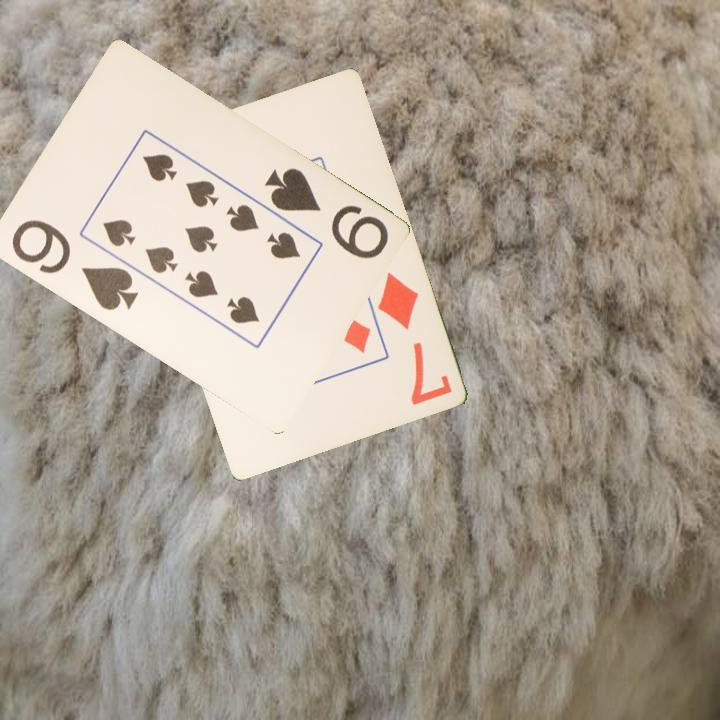7d: (373, 268, 454, 408)
9s: (7, 216, 141, 314), (260, 164, 391, 262)
